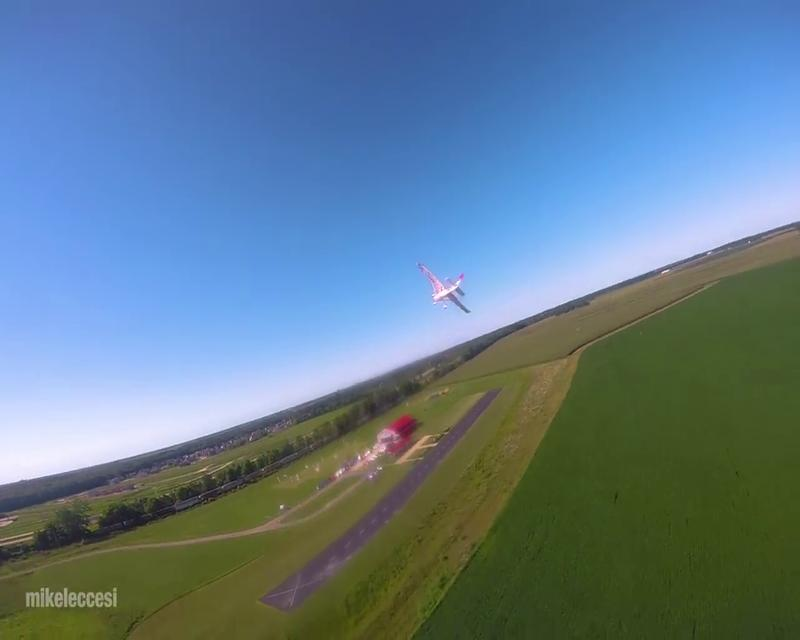UAV: (416, 261, 471, 313)
